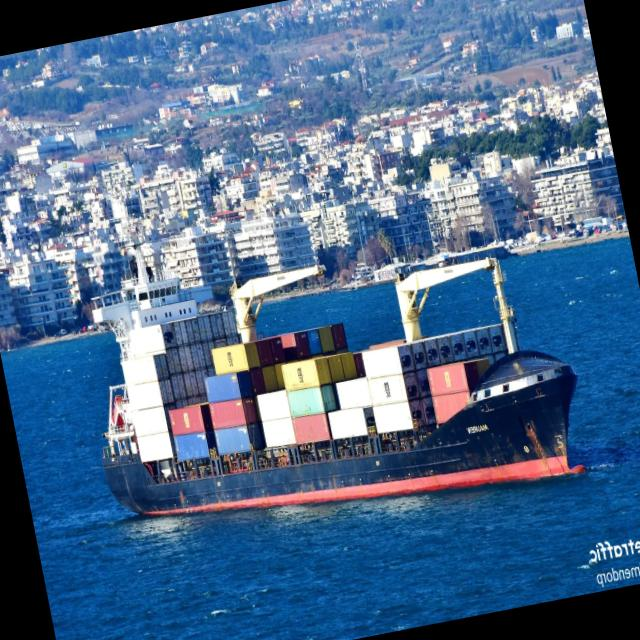Cargo: (93, 247, 585, 515)
